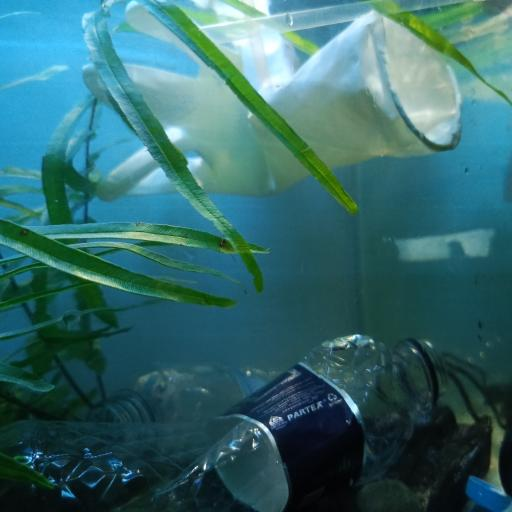bottle_cap: (462, 475, 512, 512)
glove: (80, 0, 461, 198)
mask: (408, 352, 492, 512)
plastic_bottle: (0, 334, 448, 512), (92, 367, 290, 428)
plastic_straw: (202, 0, 468, 45), (239, 0, 276, 95)
